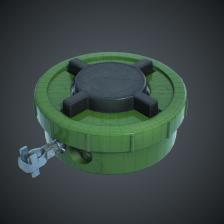PMN2: (24, 44, 190, 180)
